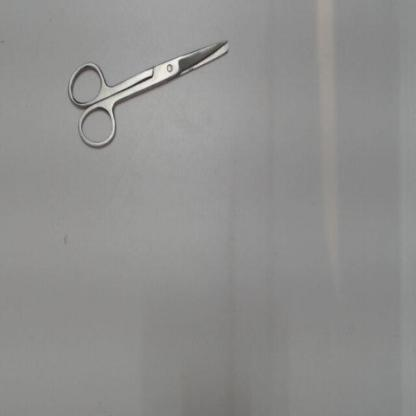Dressing Scissors: (58, 30, 240, 159)
